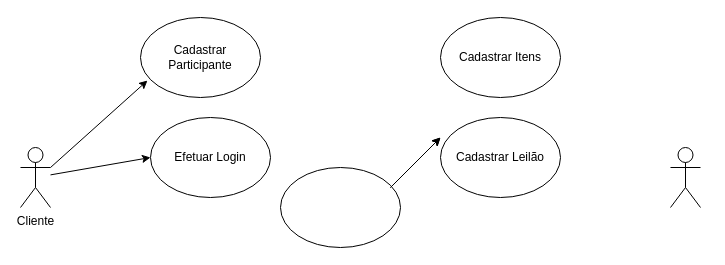
This 725x265 diagram has some shape labels left out. Here are the shapes that lost their labels. From the top down, the centre of each, then its label:
At (685,177): "Leiloeiro".
At (340,207): "Ofertar Lance".
